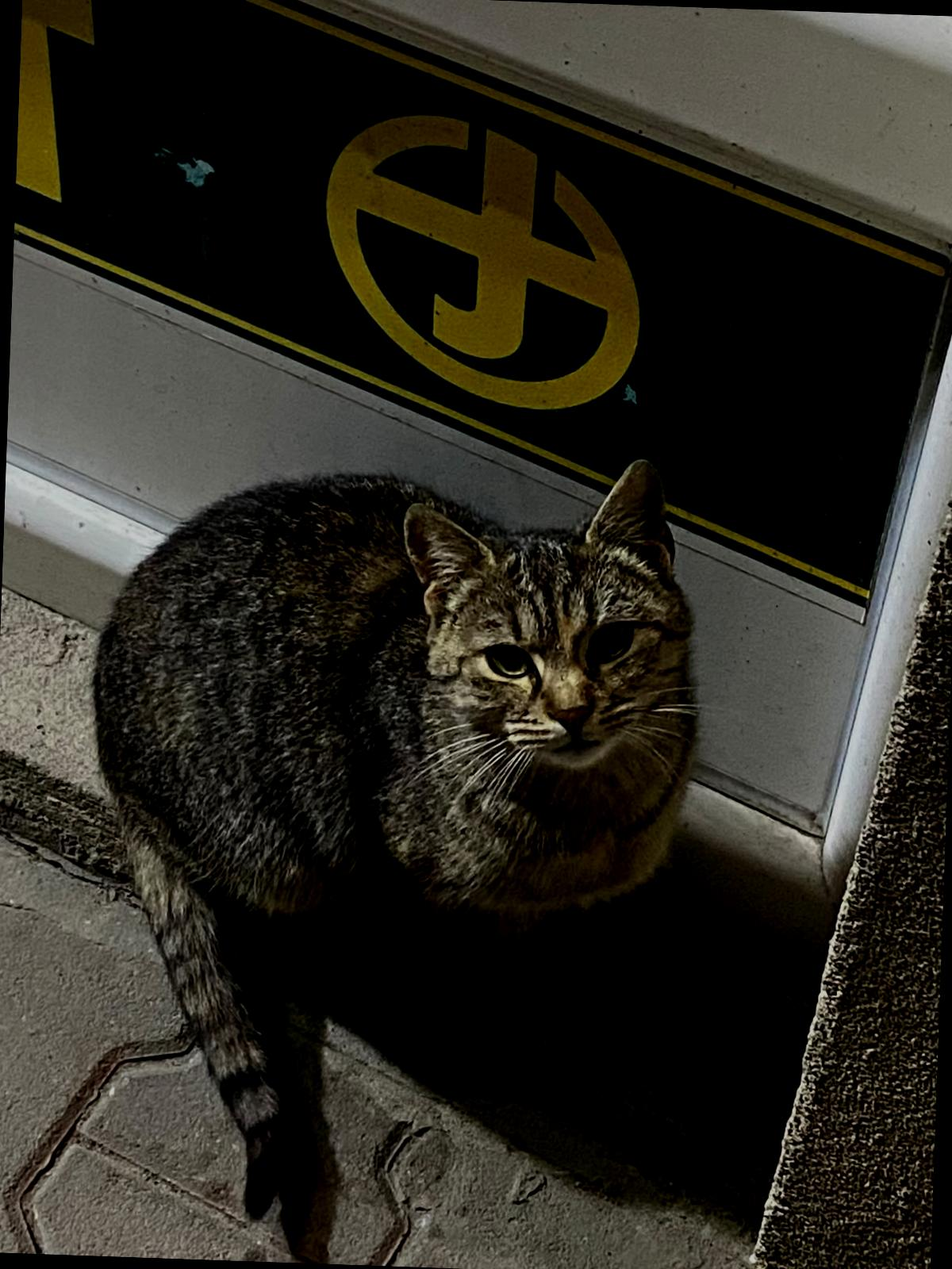macka: (67, 436, 706, 1234)
